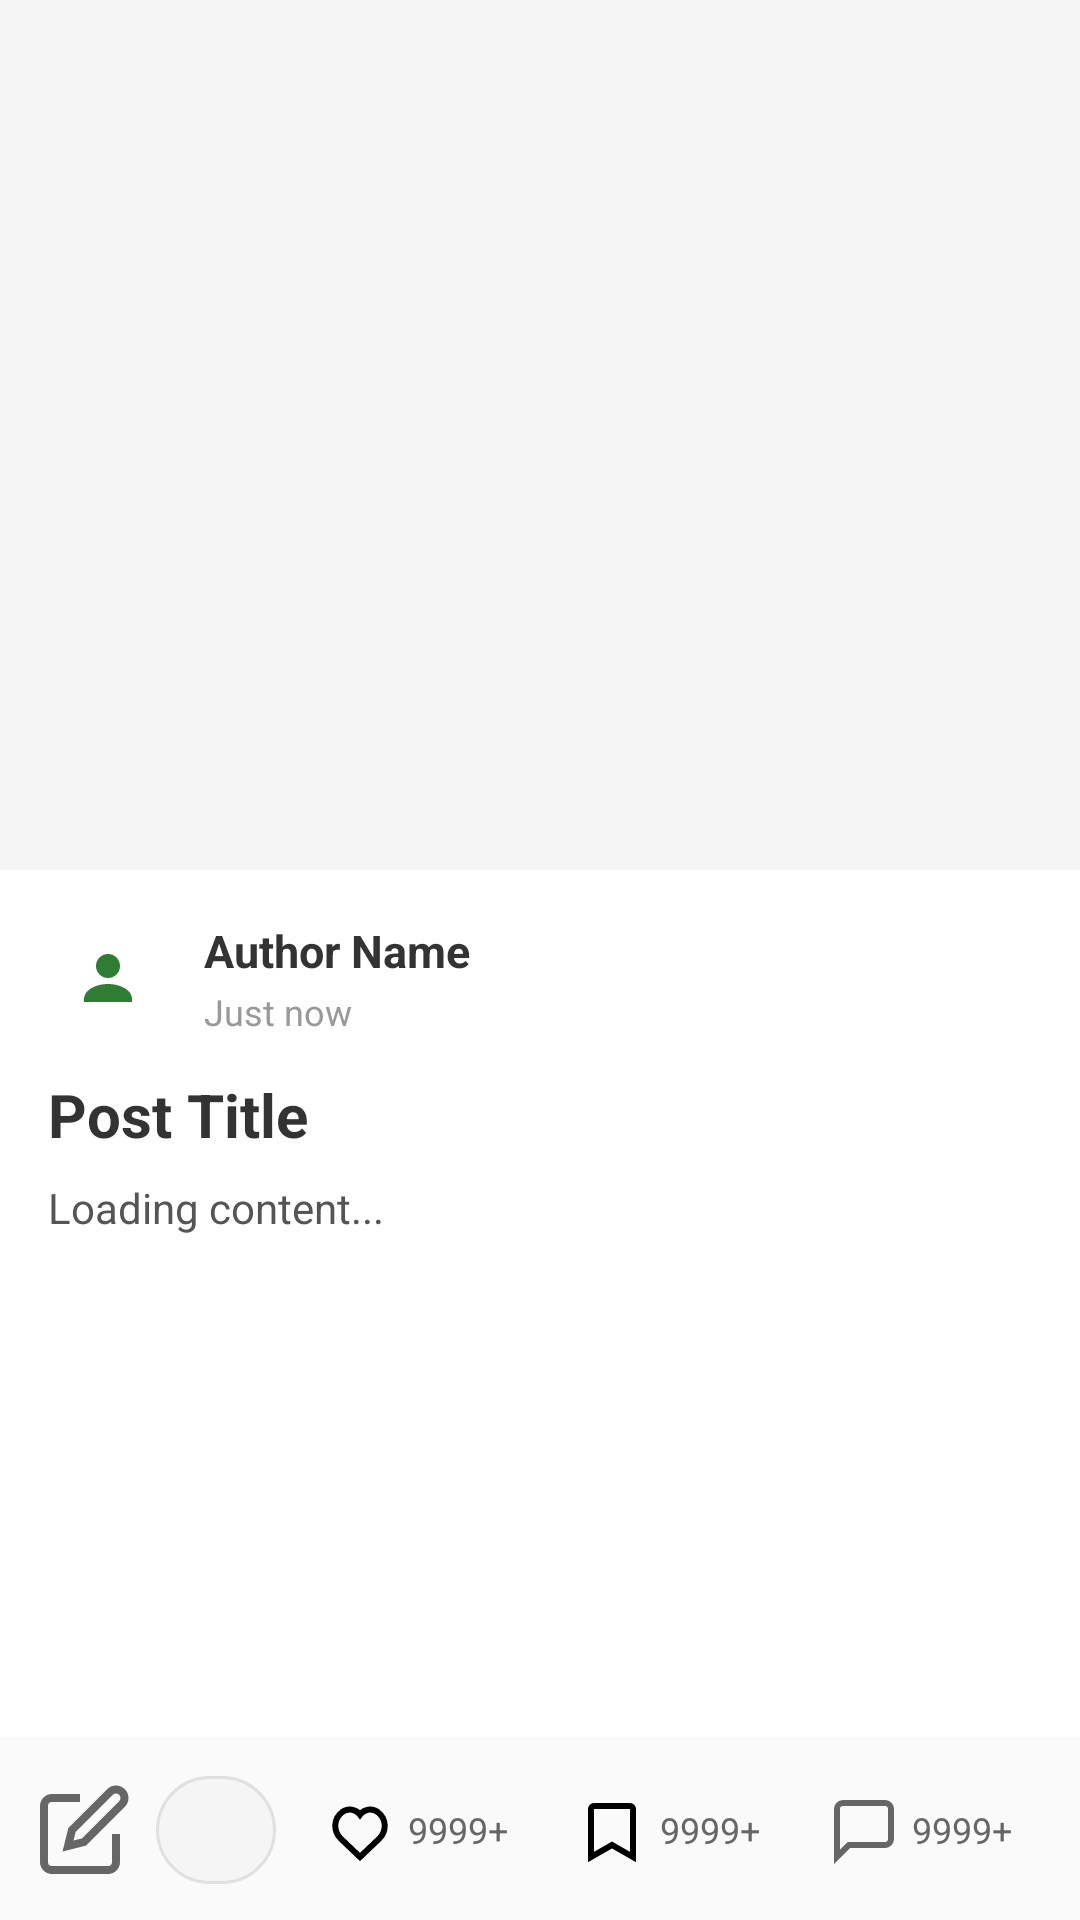

Icons on this 1080×1920 Android screen, each with its box as [x1=x1, y1=y1, x2=x2, y2=y2]:
Bookmark: [x1=588, y1=1803, x2=636, y2=1862]
comment: [x1=834, y1=1800, x2=894, y2=1864]
Like: [x1=332, y1=1806, x2=388, y2=1861]
profile: [x1=84, y1=954, x2=132, y2=1002]
Write comment: [x1=40, y1=1785, x2=129, y2=1874]
